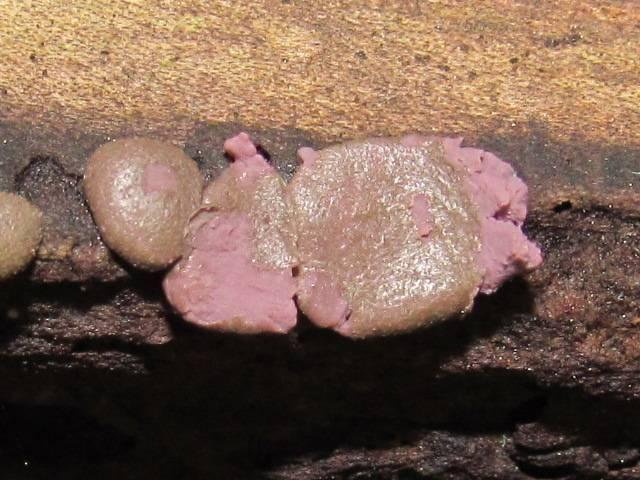Non-edible Mushroom: (80, 127, 544, 341), (285, 134, 487, 340), (161, 130, 300, 335), (401, 132, 544, 296), (80, 134, 204, 272), (0, 189, 44, 280)
